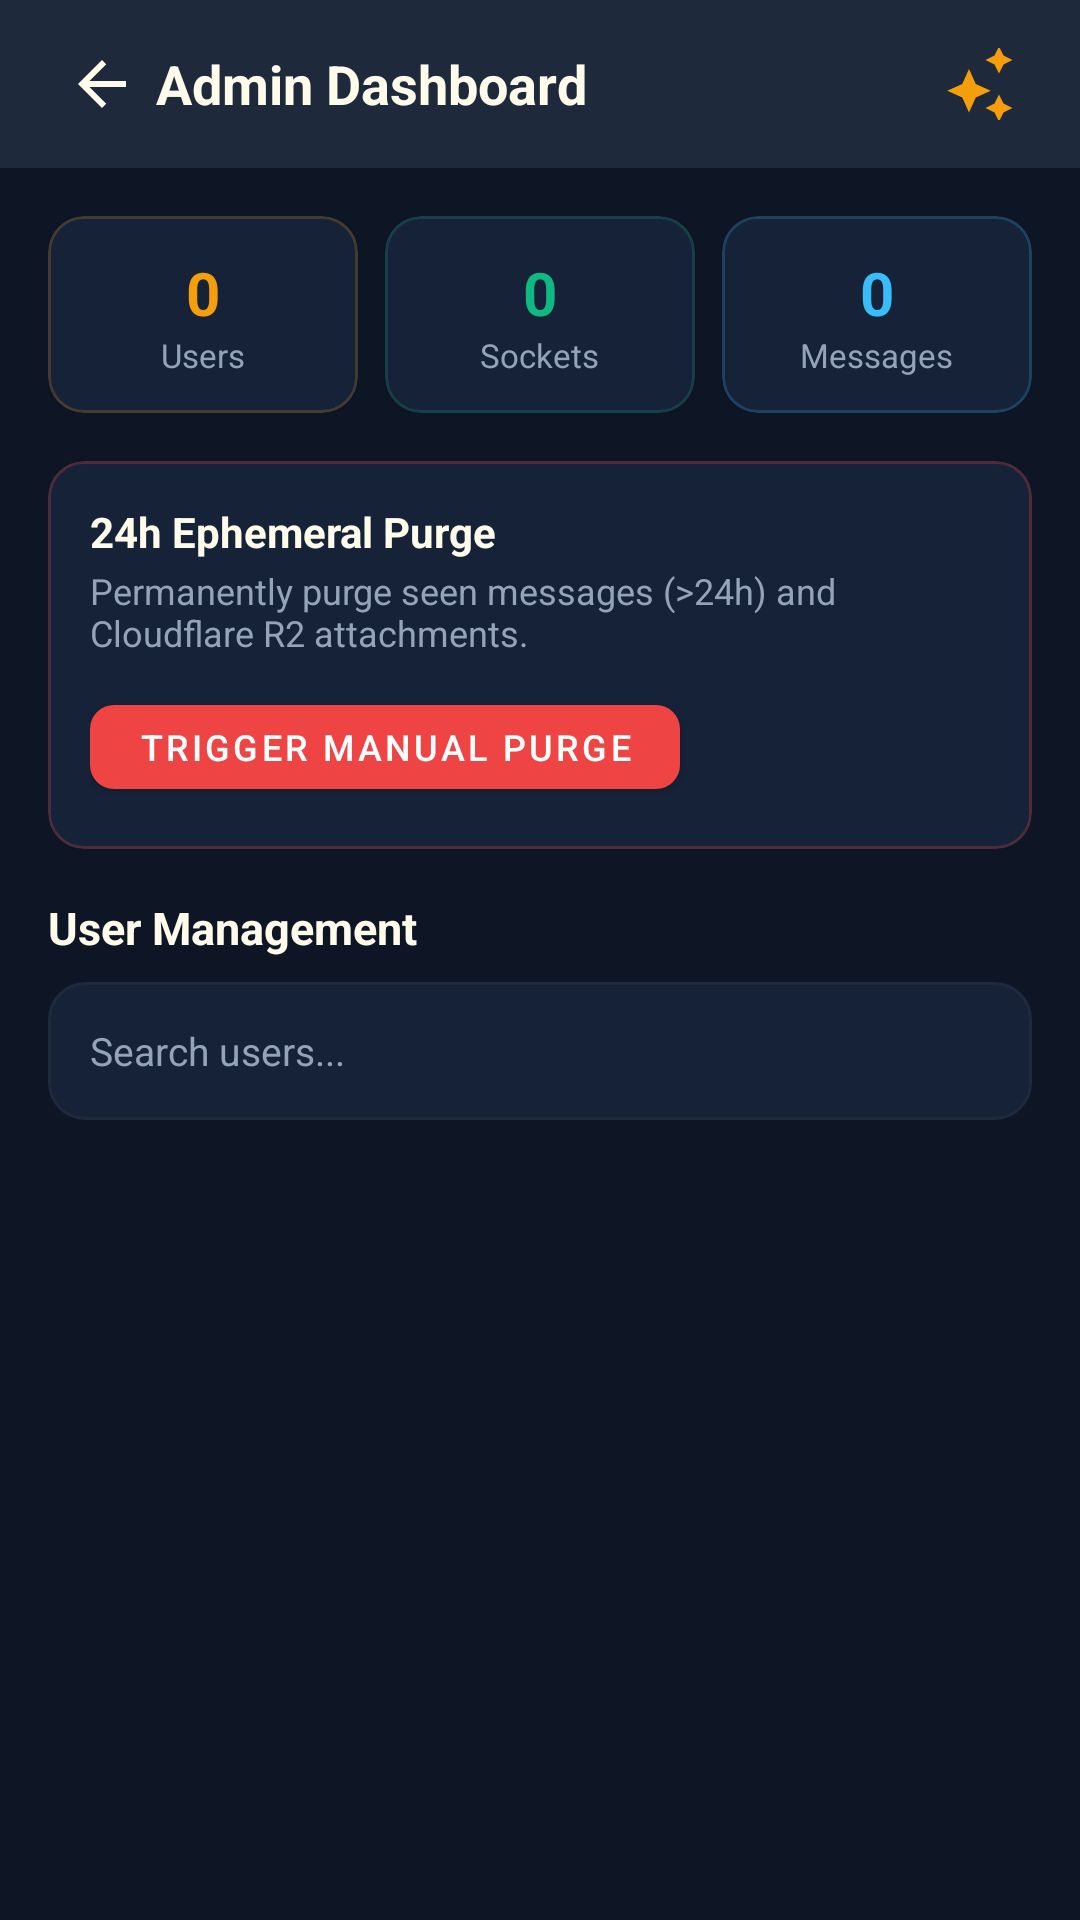

Icons on this 1080px x 1920px Android screen, each with the point to tap as (x,y):
Back: (102,84)
